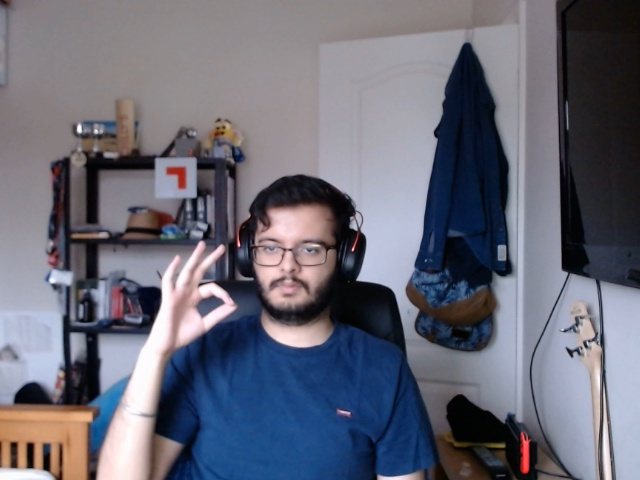Okay: (140, 229, 243, 364)
